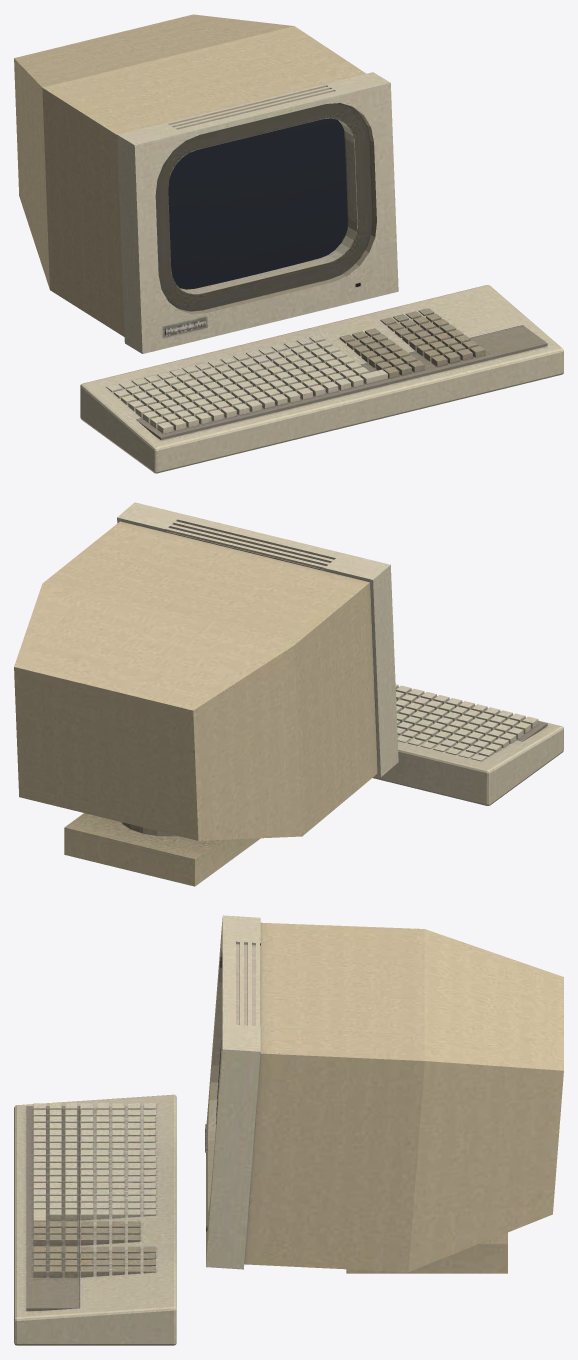
File: terminal-b.glb
3 renders of one model, top to bottom at view 1: azimuth 30°, elevation 25°; view 2: azimuth 150°, elevation 25°; view 3: azimuth 270°, elevation 25°, orthographic. The views are drawn at different scales.
Parts seen in each view (by area): view 1: case-baked, screen-glass; view 2: case-baked; view 3: case-baked.
Boxes of the visible parts, box(x1,y1,x2,y2) form: case-baked: box(14, 14, 563, 473); screen-glass: box(168, 118, 347, 289); case-baked: box(14, 502, 563, 886); case-baked: box(14, 915, 563, 1345).
Bounding box in the file's own units: 0.533 × 0.2979 × 0.5777.
Materials: 2 (1 with a texture image).
